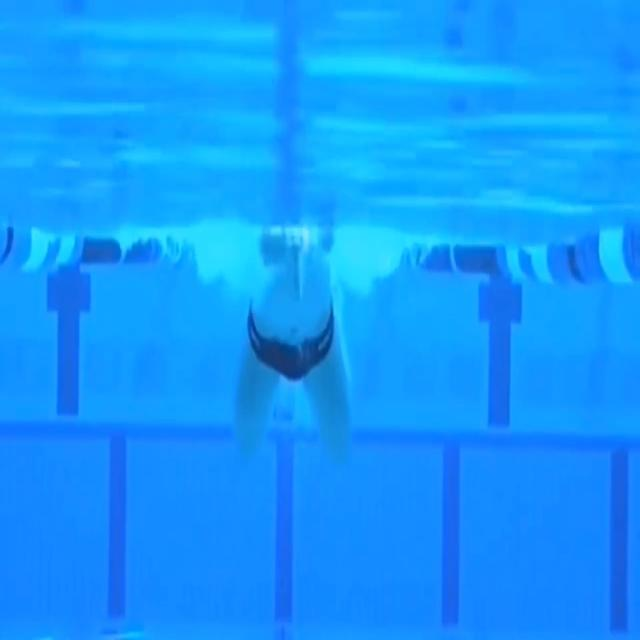Swimming: (230, 226, 354, 460)
